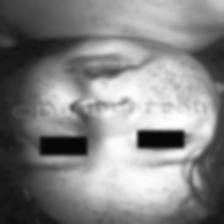Toxin: (62, 174, 184, 212), (150, 57, 208, 100), (26, 68, 66, 100), (154, 0, 224, 18)
